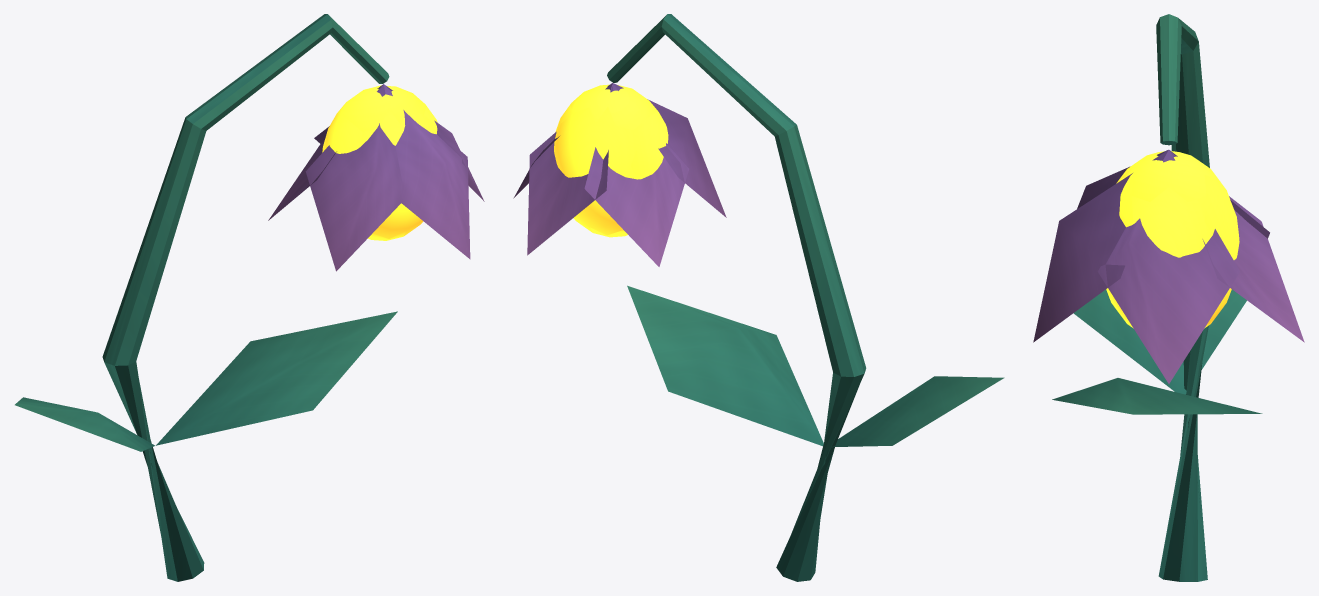
Rendered from forest_lantern_flower.glb.
3 views of the same model, side by side, from view 1: azimuth 30°, elevation 25°; view 2: azimuth 150°, elevation 25°; view 3: azimuth 270°, elevation 25° (orthographic). The views are drawn at different scales.
Parts seen in each view (by area): view 1: Curled lantern flower stem, Lantern flower broad leaf.001, Hanging lilac lantern petal.003, Hanging lilac lantern petal.004, Lantern flower warm heart, Lantern flower broad leaf, Hanging lilac lantern petal.002; view 2: Curled lantern flower stem, Lantern flower broad leaf.001, Lantern flower warm heart, Hanging lilac lantern petal.002, Lantern flower broad leaf, Hanging lilac lantern petal.001, Hanging lilac lantern petal.003; view 3: Curled lantern flower stem, Hanging lilac lantern petal, Lantern flower warm heart, Hanging lilac lantern petal.004, Hanging lilac lantern petal.001, Lantern flower broad leaf, Lantern flower broad leaf.001, Hanging lilac lantern petal.003.
Boxes of the visible parts, box(x1,y1,x2,y2) form: Curled lantern flower stem: box(102, 14, 389, 581); Lantern flower broad leaf.001: box(156, 311, 397, 445); Hanging lilac lantern petal.003: box(305, 84, 402, 271); Hanging lilac lantern petal.004: box(383, 84, 470, 259); Lantern flower warm heart: box(322, 85, 437, 240); Lantern flower broad leaf: box(15, 397, 155, 451); Hanging lilac lantern petal.002: box(268, 85, 382, 220); Curled lantern flower stem: box(607, 14, 866, 581); Lantern flower broad leaf.001: box(627, 285, 823, 446); Lantern flower warm heart: box(554, 84, 668, 237); Hanging lilac lantern petal.002: box(584, 83, 689, 266); Lantern flower broad leaf: box(832, 376, 1004, 447); Hanging lilac lantern petal.001: box(527, 83, 612, 255); Hanging lilac lantern petal.003: box(613, 83, 726, 217); Curled lantern flower stem: box(1156, 14, 1209, 581); Hanging lilac lantern petal: box(1097, 150, 1240, 383); Lantern flower warm heart: box(1106, 151, 1239, 328); Hanging lilac lantern petal.004: box(1033, 150, 1168, 342); Hanging lilac lantern petal.001: box(1169, 150, 1304, 342); Lantern flower broad leaf: box(1073, 289, 1246, 394); Lantern flower broad leaf.001: box(1052, 378, 1262, 414); Hanging lilac lantern petal.003: box(1077, 150, 1167, 208).
Size of the model in its own units: 0.96 by 1.01 by 0.3804.
Materials: 3 (3 with a texture image).
